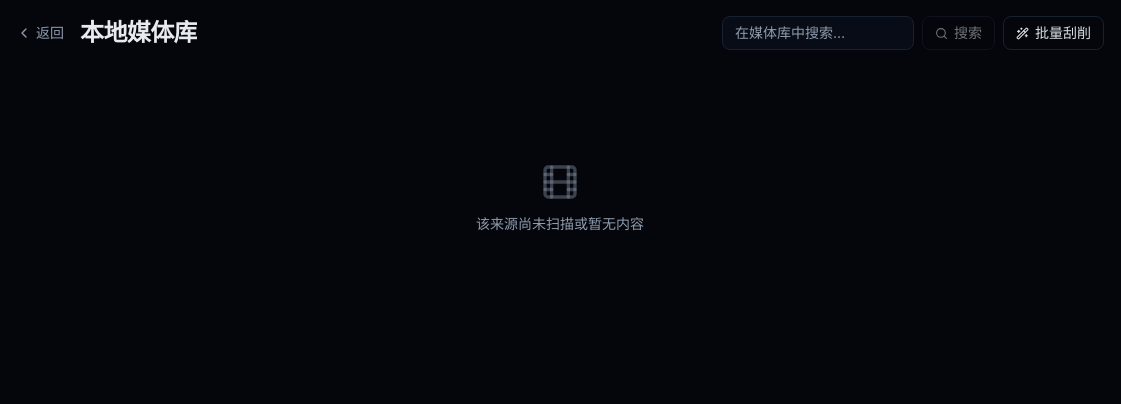
Test case: LibraryBrowse: catalog mode › searches within the source
Type "流浪" into the field labelled "在媒体库中搜索" at (818, 33), box x1=722 y1=16 x2=914 y2=50
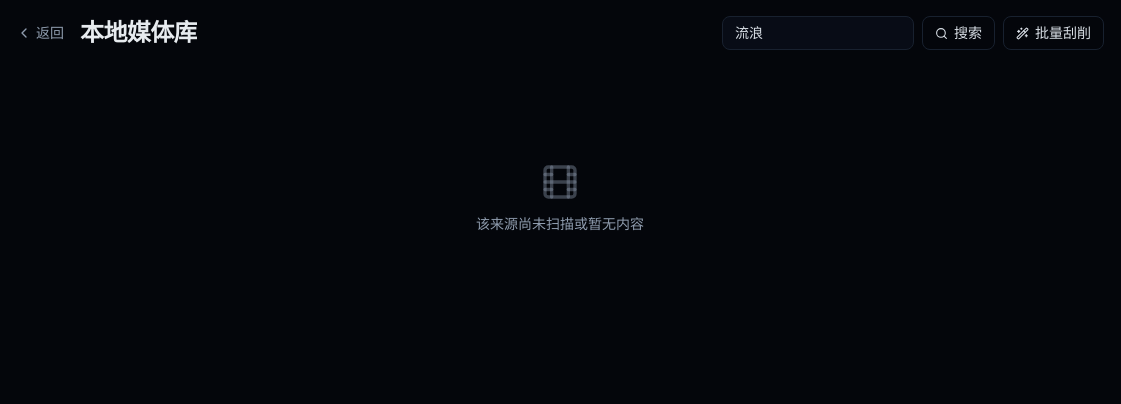
Click the button "搜索" at (958, 33), box x1=922 y1=16 x2=995 y2=50
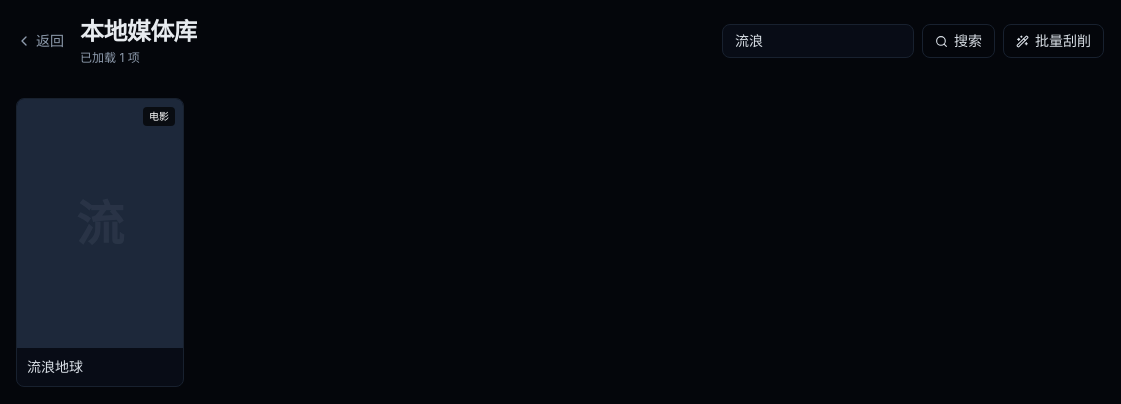
Result: the heading "流浪地球" is shown at x1=27 y1=358 x2=83 y2=375
